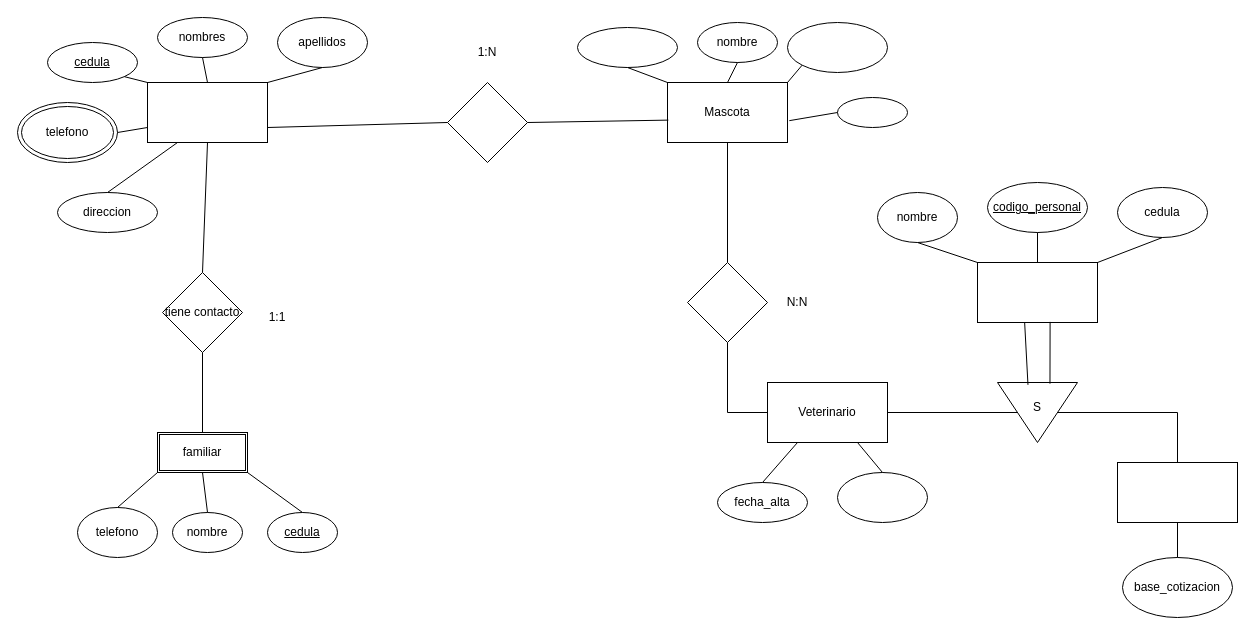
Image size: 1255x635. Some labels were removed from this diagram. Here are the shapes that lost their labels. From the top down, the box of each, then its label:
(576, 26, 678, 68): identificador
(786, 22, 888, 72): fecha_nacimiento
(146, 82, 268, 142): Propietario
(446, 82, 528, 162): llevar
(836, 96, 908, 128): tipo
(686, 262, 768, 342): Pasar consulta
(976, 262, 1098, 322): Personal
(836, 472, 928, 522): especialidad
(1116, 462, 1238, 522): Auxiliar
